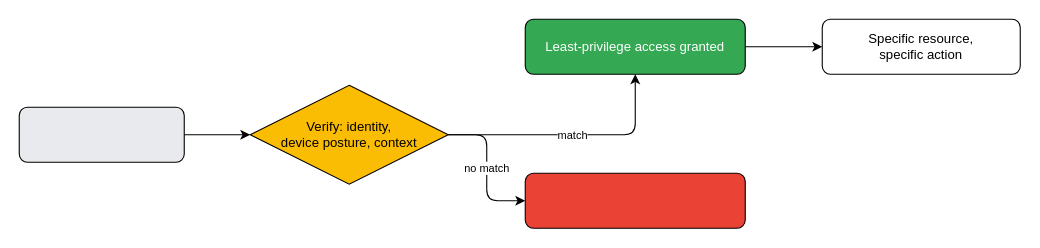
This 1040x248 diagram has some shape labels left out. Each missing label, with the centre of its shape:
Denied, regardless of network location: the point at 634,200
Every Request: the point at 101,134
